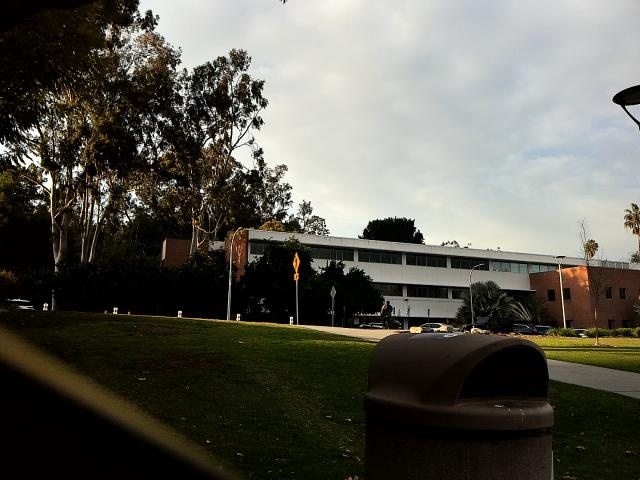trashcan: (358, 324, 554, 480)
